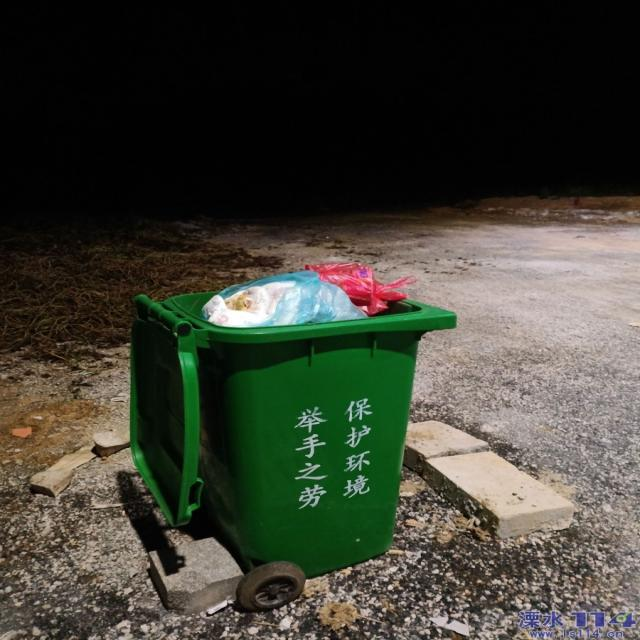overflow: (129, 262, 456, 579)
